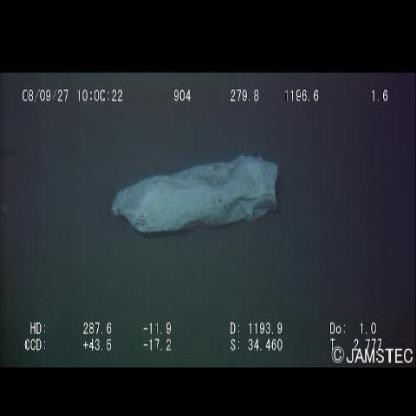Rác: (111, 157, 279, 238)
